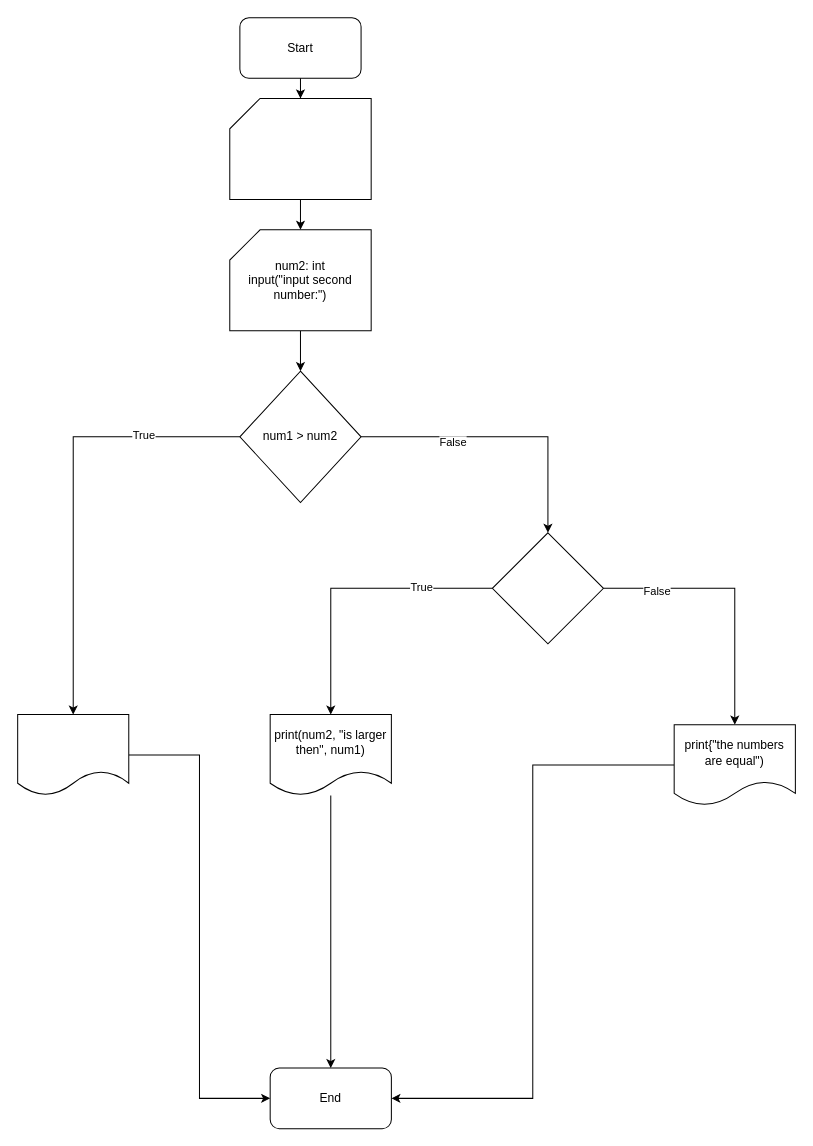
The diagram is 813 pixels wide and 1146 high, and some of its shapes have lost their labels. The shapes that lost their labels are listed below. From the top down, each one's centre as x and y in pixels, then its label:
point (300, 148): num1: int input("input first number:")
point (547, 588): num2>num1
point (73, 754): print(num1, "is larger then", num2)
